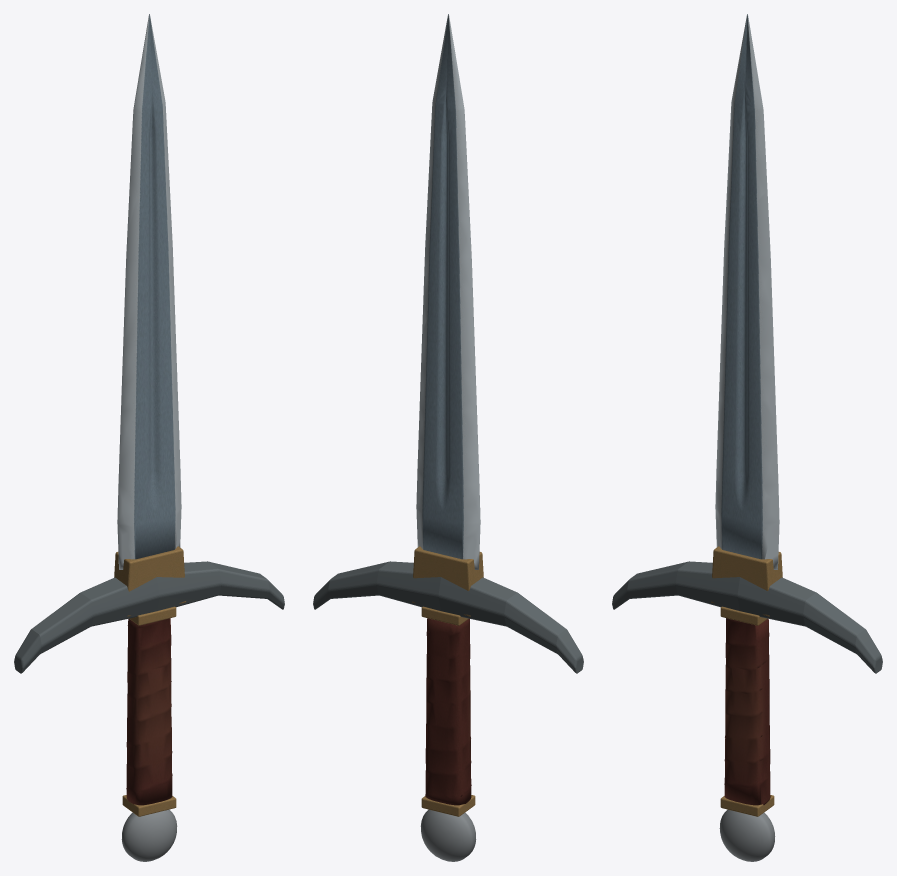
File: apprentice.glb
3 views of the same model, side by side, from view 1: azimuth 30°, elevation 25°; view 2: azimuth 150°, elevation 25°; view 3: azimuth 330°, elevation 25° (orthographic).
Parts seen in each view (by area): view 1: apprentice_Baked.005 export; view 2: apprentice_Baked.005 export; view 3: apprentice_Baked.005 export.
Part boxes in pixels (x1,y1,x2,y2): apprentice_Baked.005 export: [14, 14, 284, 861]; apprentice_Baked.005 export: [313, 14, 583, 861]; apprentice_Baked.005 export: [612, 14, 882, 861].
Size of the model in its own units: 0.33 by 1.01 by 0.0432.
Materials: 1 (1 with a texture image).
